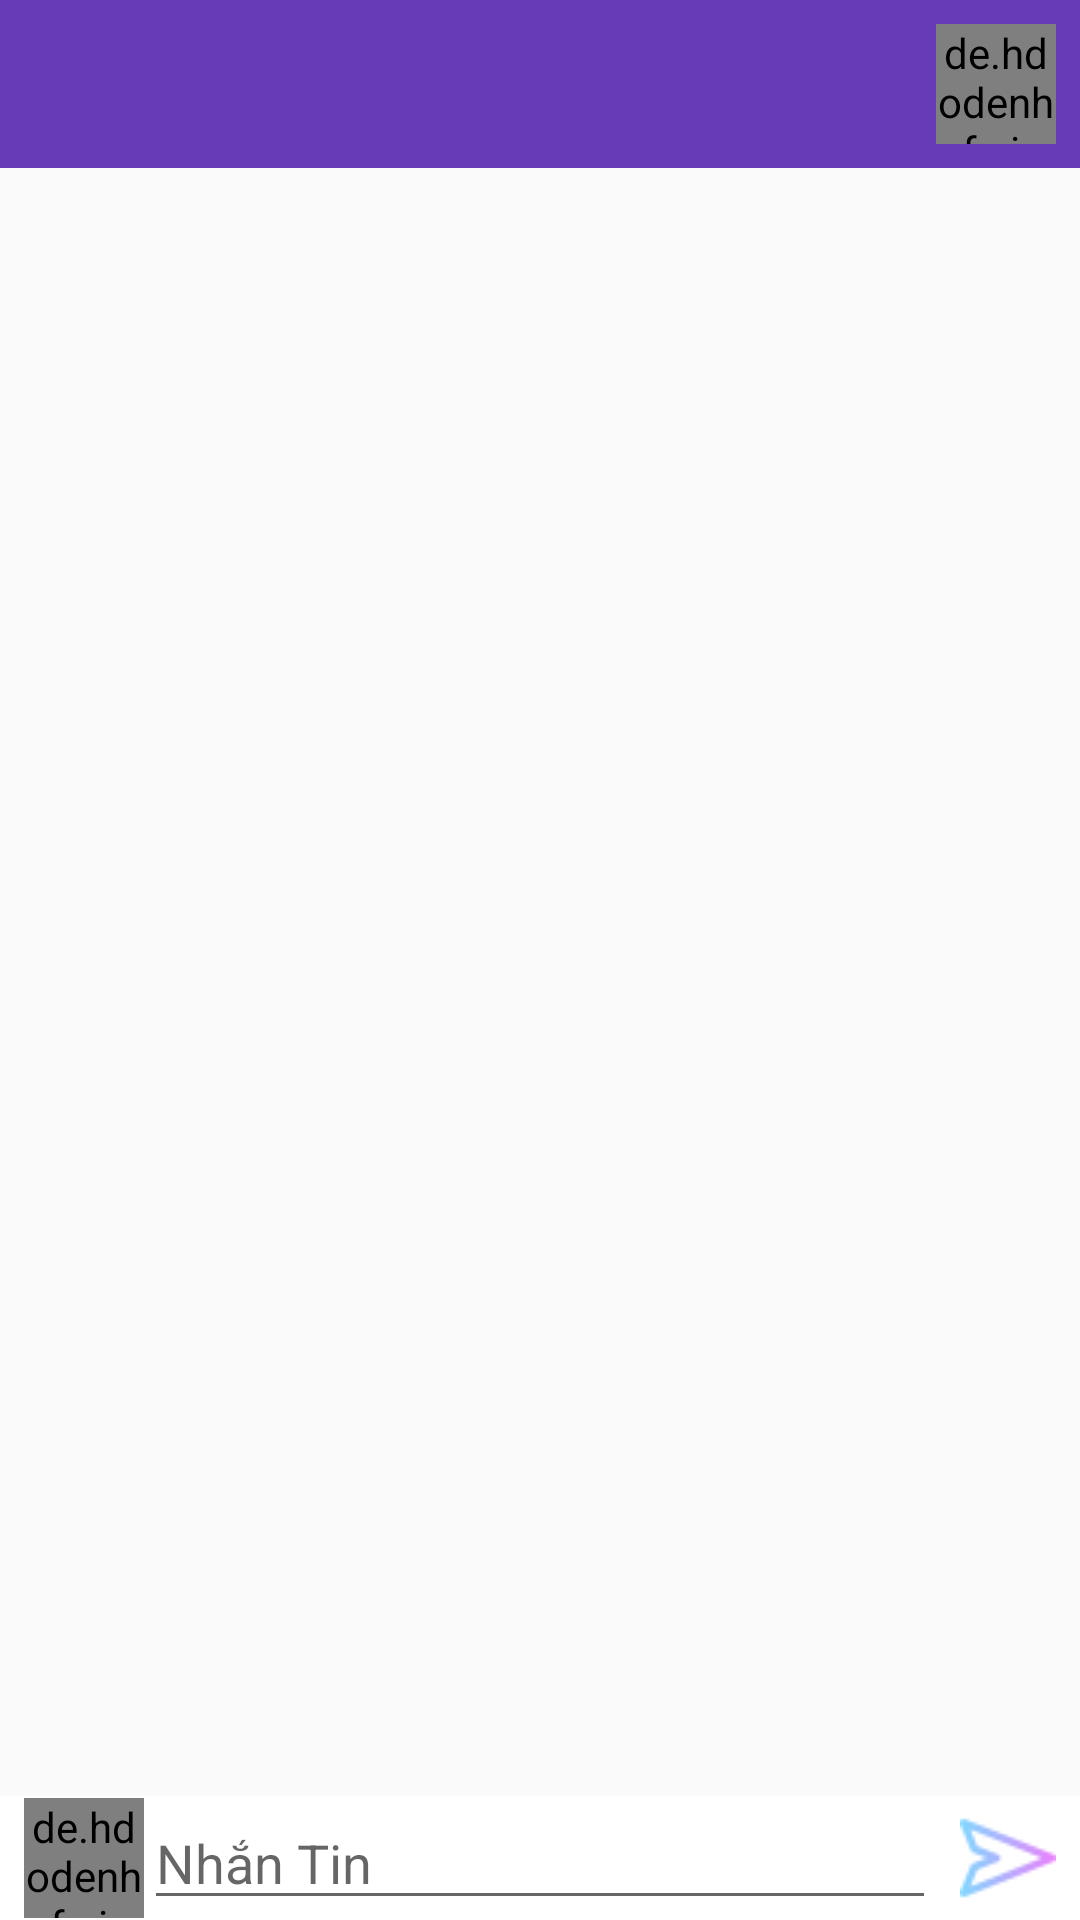

Screen size 1080×1920. Icon name, then its center in pixels as [x,y]:
send: [1008,1858]
